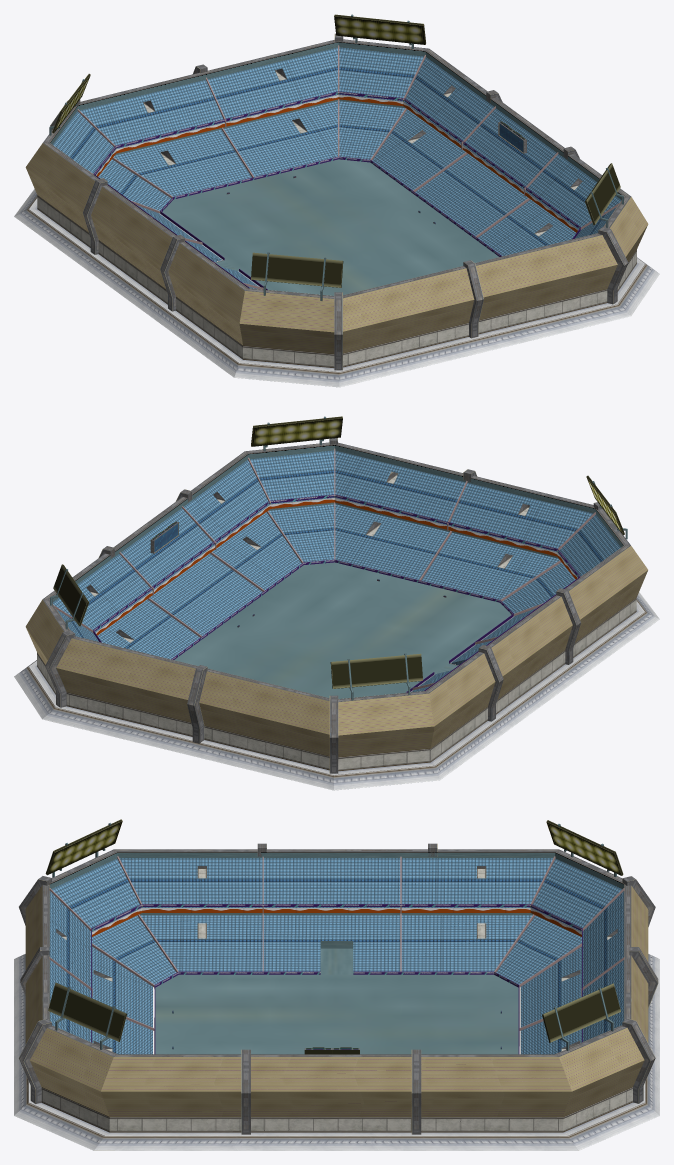
Rendered from Stadium.FBX.
3 views of the same model, one above another, from view 1: azimuth 30°, elevation 25°; view 2: azimuth 150°, elevation 25°; view 3: azimuth 270°, elevation 25° (orthographic). The views are drawn at different scales.
Visible parts, largest first — view 1: Stadium; view 2: Stadium; view 3: Stadium.
Boxes of the visible parts, left/top/right/bottom form: Stadium: left=14, top=14, right=659, bottom=387; Stadium: left=14, top=416, right=659, bottom=790; Stadium: left=14, top=819, right=659, bottom=1150.
Size of the model in its own units: 23470 by 5788 by 27995.
